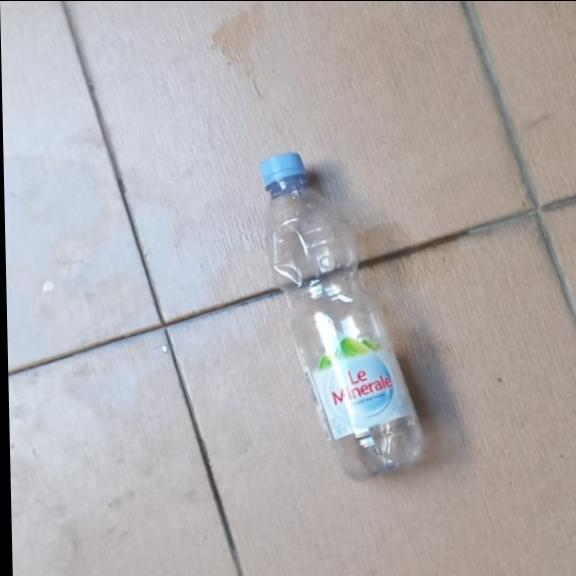Plastik: (260, 151, 422, 481)
